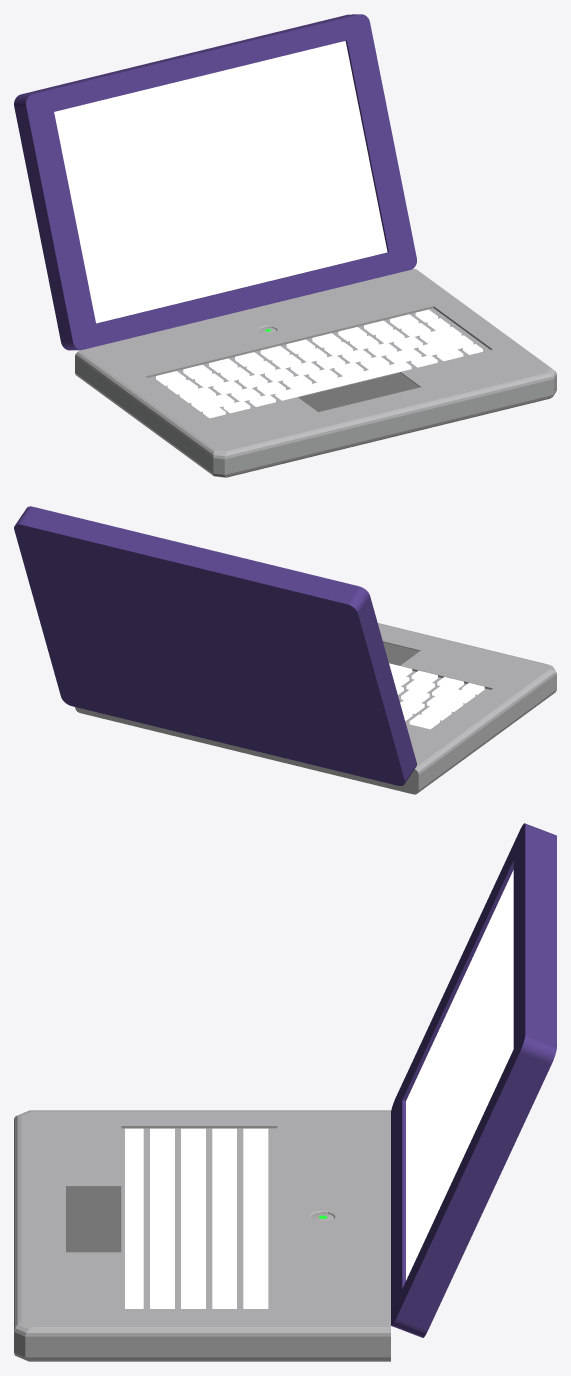
Rendered from laptopmodelK.glb.
3 views of the same model, one above another, from view 1: azimuth 30°, elevation 25°; view 2: azimuth 150°, elevation 25°; view 3: azimuth 270°, elevation 25° (orthographic). The views are drawn at different scales.
Visible parts, largest first — view 1: Cube; view 2: Cube; view 3: Cube.
Boxes of the visible parts, <box> form: Cube: <box>14,14,556,477</box>; Cube: <box>14,506,556,794</box>; Cube: <box>14,823,556,1361</box>.
Bounding box in the file's own units: 2 × 1.36 × 2.07.
